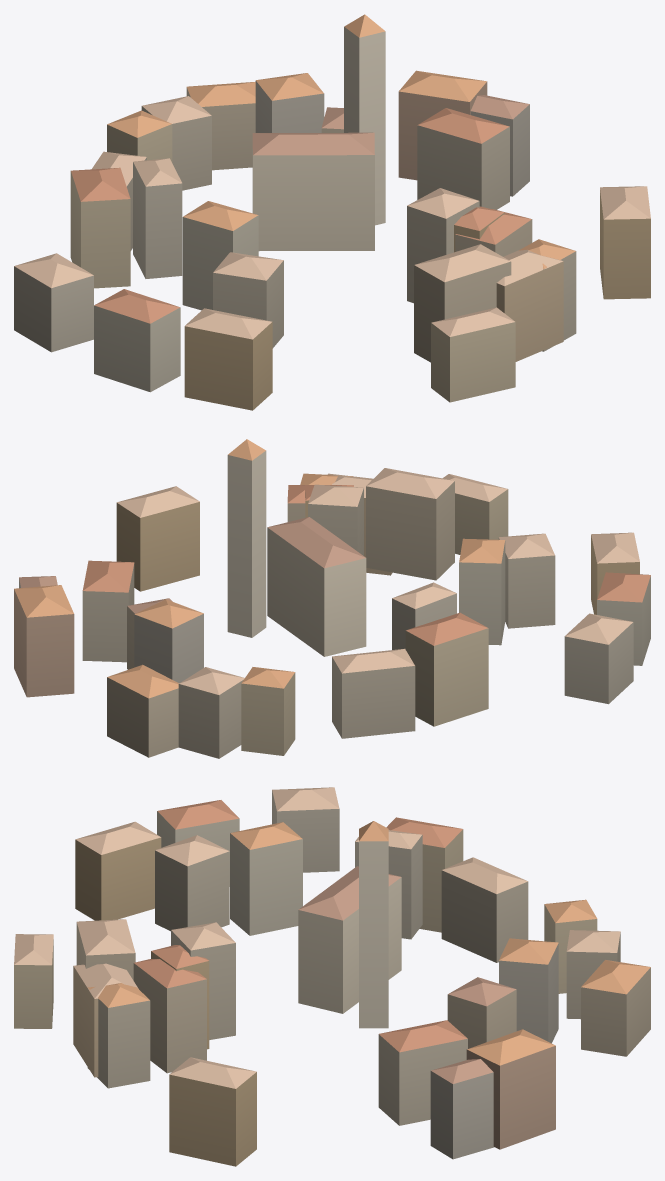
The model's file is SM_BM_BVV_Village_7.glb.
3 views of the same model, one above another, from view 1: azimuth 30°, elevation 25°; view 2: azimuth 150°, elevation 25°; view 3: azimuth 270°, elevation 25° (orthographic). The views are drawn at different scales.
Visible parts, largest first — view 1: SM_BM_BVV_Village_7; view 2: SM_BM_BVV_Village_7; view 3: SM_BM_BVV_Village_7.
Part boxes in pixels (x1,y1,x2,y2): SM_BM_BVV_Village_7: (14,14,650,410); SM_BM_BVV_Village_7: (14,439,650,758); SM_BM_BVV_Village_7: (14,787,650,1166).
Size of the model in its own units: 166 by 68.29 by 161.
